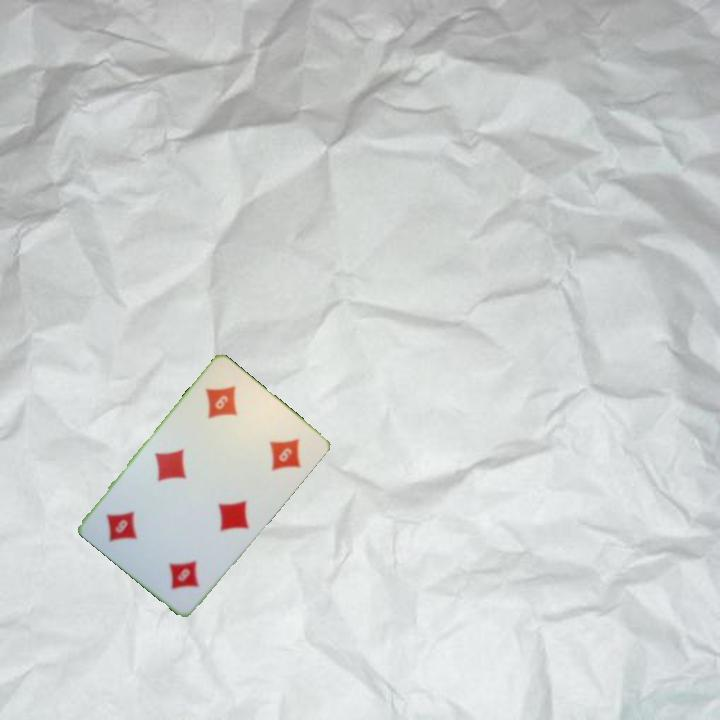d_6.png: (135, 522, 221, 607), (185, 365, 271, 450)
